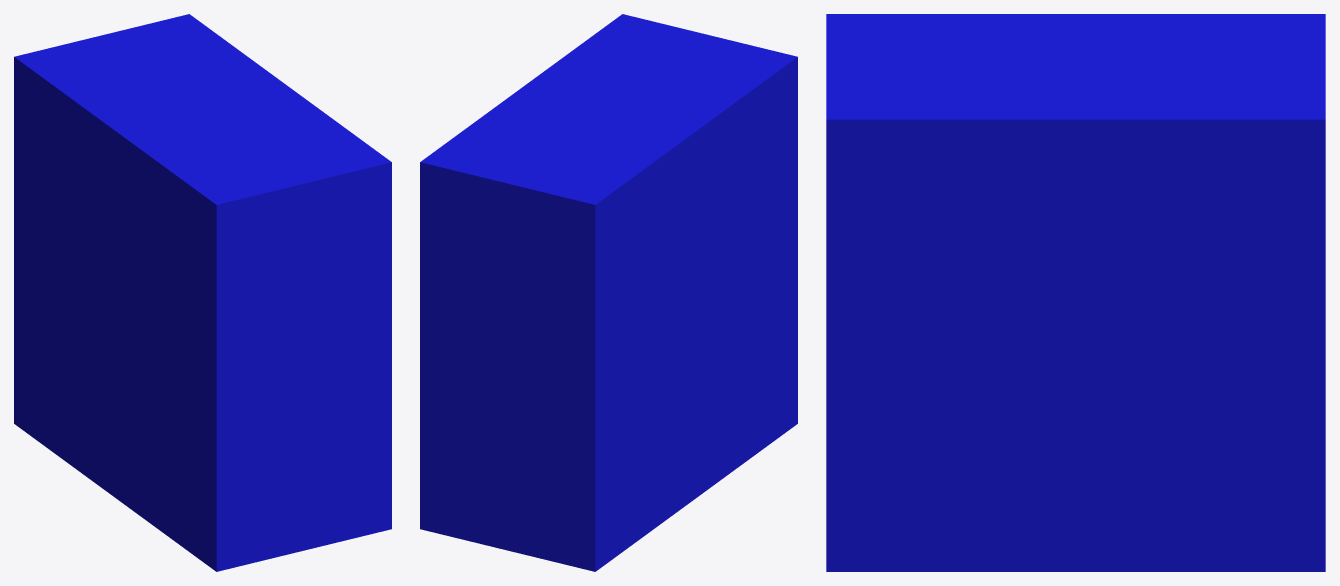
Rendered from Twobytwo.fbx.
3 views of the same model, side by side, from view 1: azimuth 30°, elevation 25°; view 2: azimuth 150°, elevation 25°; view 3: azimuth 270°, elevation 25° (orthographic). The views are drawn at different scales.
Visible parts, largest first — view 1: Twobytwo; view 2: Twobytwo; view 3: Twobytwo.
Part boxes in pixels (left/top/right/bottom): Twobytwo: left=14, top=14, right=391, bottom=571; Twobytwo: left=420, top=14, right=797, bottom=571; Twobytwo: left=826, top=14, right=1325, bottom=571.
Size of the model in its own units: 200 by 400 by 400.
